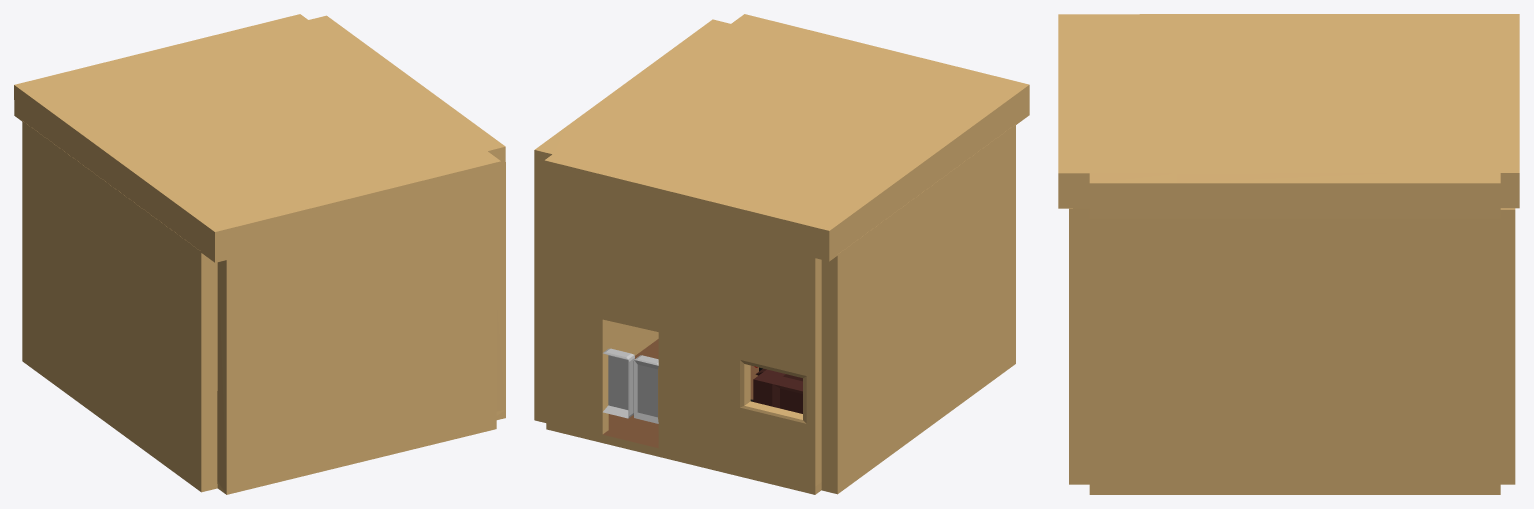
Rendered from saloon.dae.
3 renders of one model, left to right at view 1: azimuth 30°, elevation 25°; view 2: azimuth 150°, elevation 25°; view 3: azimuth 270°, elevation 25°, orthographic. The views are drawn at different scales.
Visible parts, largest first — view 1: Cube; view 2: Cube; view 3: Cube.
Boxes of the visible parts, x1,y1,x2,y2 form: Cube: (14,14,505,494); Cube: (534,14,1029,494); Cube: (1058,14,1519,494).
Size of the model in its own units: 75.04 by 85.76 by 63.93.
